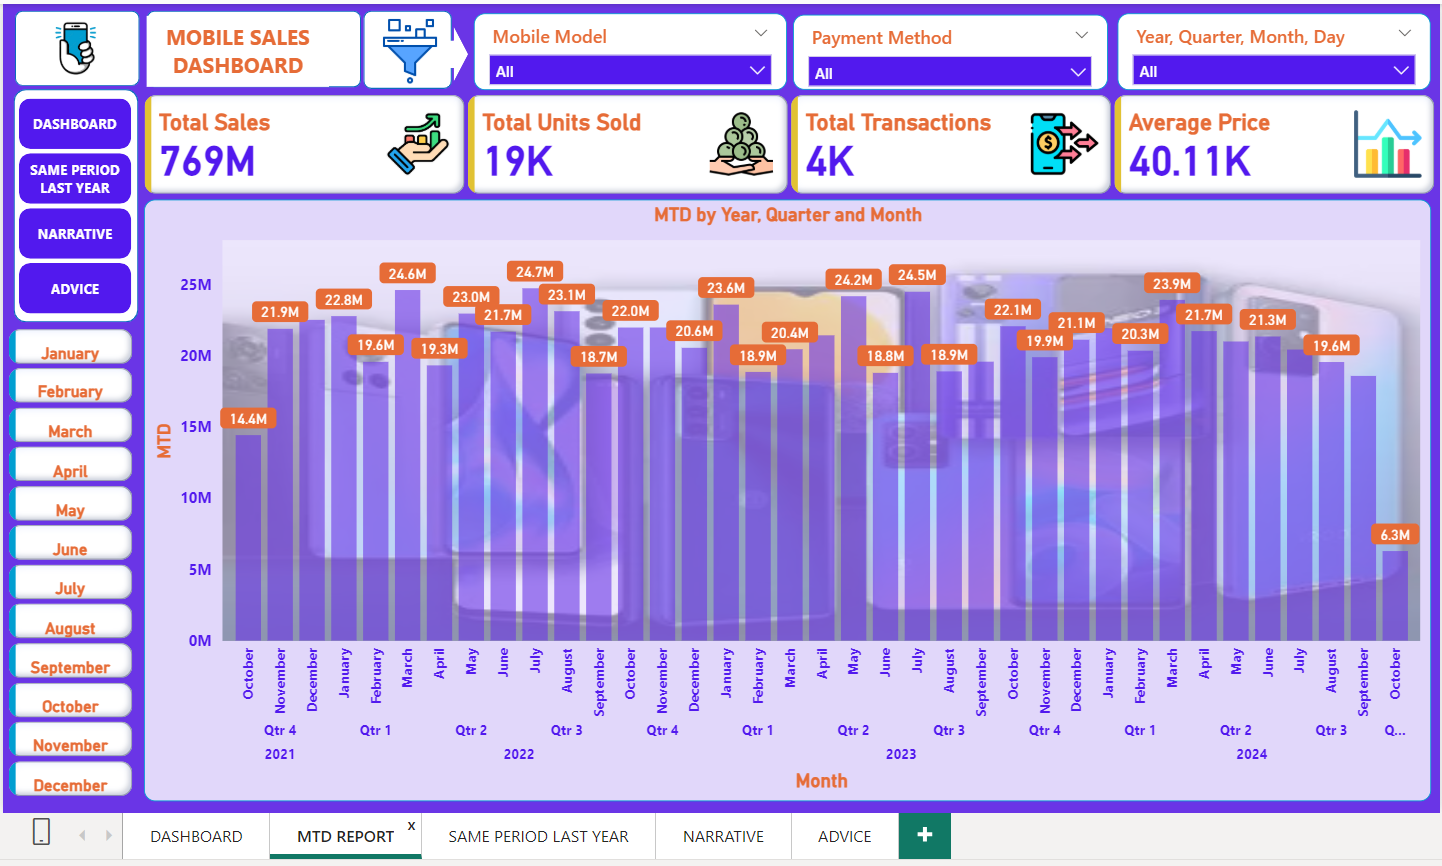

This screenshot's page, from the dashboard's own definition file:
{"tool":"powerbi","page":{"name":"MTD REPORT","canvas":[1280,720],"ordinal":1},"visuals":[{"type":"shape","box":[10.3,6.5,111,67.1],"z":0},{"type":"image","box":[9,3.9,111,71],"z":1000},{"type":"shape","box":[9,76.2,111,207.8],"z":2000},{"type":"slicer","fields":{"Values":["Sales_Data.Mobile Model"]},"box":[419.6,7.7,278.8,68.4],"z":3000},{"type":"slicer","fields":{"Values":["Sales_Data.Payment Method"]},"box":[703.6,9,280.1,67.1],"z":4000},{"type":"slicer","fields":{"Values":["Custom_Calender.Date.Variation.Date Hierarchy.Year","Custom_Calender.Date.Variation.Date Hierarchy.Quarter","Custom_Calender.Date.Variation.Date Hierarchy.Month","Custom_Calender.Date.Variation.Date Hierarchy.Day"]},"box":[992.8,7.7,278.9,68.4],"z":5000},{"type":"shape","box":[321.5,6.5,78.7,69.7],"z":6000},{"type":"image","box":[324.6,7.6,76.1,69.7],"z":7000},{"type":"shape","box":[388.6,20.7,25.8,49],"z":8000},{"type":"shape","box":[127.8,6.5,191.1,68.4],"z":9000},{"type":"textbox","box":[127.8,10.3,162.7,63.2],"z":10000},{"type":"lineStackedColumnComboChart","fields":{"Category":["Custom_Calender.Date.Variation.Date Hierarchy.Year","Custom_Calender.Date.Variation.Date Hierarchy.Quarter","Custom_Calender.Date.Variation.Date Hierarchy.Month","Custom_Calender.Date.Variation.Date Hierarchy.Day"],"Y":["Sales_Data.MTD"]},"box":[125.5,173.7,1146.4,536.4],"z":11000},{"type":"advancedSlicerVisual","fields":{"Values":["Custom_Calender.Date.Variation.Date Hierarchy.Month"]},"box":[0,284,120.1,436.3],"z":13000},{"type":"cardVisual","fields":{"Data":["Sales_Data.Total_Sales","Sales_Data.total units sold","Sales_Data.Total_Transactions","Sales_Data.Average_Price"]},"box":[121.4,76.2,1159.3,98.1],"z":14000},{"type":"pageNavigator","box":[14.2,83.9,100.7,192.3],"z":15000}]}

Visuals, with their boxes in screenshot pixels (x1, y1, x2, y2):
shape: (left=11, top=7, right=135, bottom=82)
image: (left=10, top=4, right=133, bottom=83)
shape: (left=10, top=85, right=133, bottom=316)
slicer - Sales_Data.Mobile Model: (left=466, top=9, right=776, bottom=85)
slicer - Sales_Data.Payment Method: (left=782, top=10, right=1093, bottom=85)
slicer - Custom_Calender.Date.Variation.Date Hierarchy.Year x Custom_Calender.Date.Variation.Date Hierarchy.Quarter: (left=1103, top=9, right=1413, bottom=85)
shape: (left=357, top=7, right=445, bottom=85)
image: (left=361, top=8, right=445, bottom=86)
shape: (left=432, top=23, right=460, bottom=77)
shape: (left=142, top=7, right=354, bottom=83)
textbox: (left=142, top=11, right=323, bottom=82)
lineStackedColumnComboChart - Custom_Calender.Date.Variation.Date Hierarchy.Year x Custom_Calender.Date.Variation.Date Hierarchy.Quarter: (left=139, top=193, right=1413, bottom=789)
advancedSlicerVisual - Custom_Calender.Date.Variation.Date Hierarchy.Month: (left=0, top=316, right=133, bottom=800)
cardVisual - Sales_Data.Total_Sales x Sales_Data.total units sold: (left=135, top=85, right=1423, bottom=194)
pageNavigator: (left=16, top=93, right=128, bottom=307)
